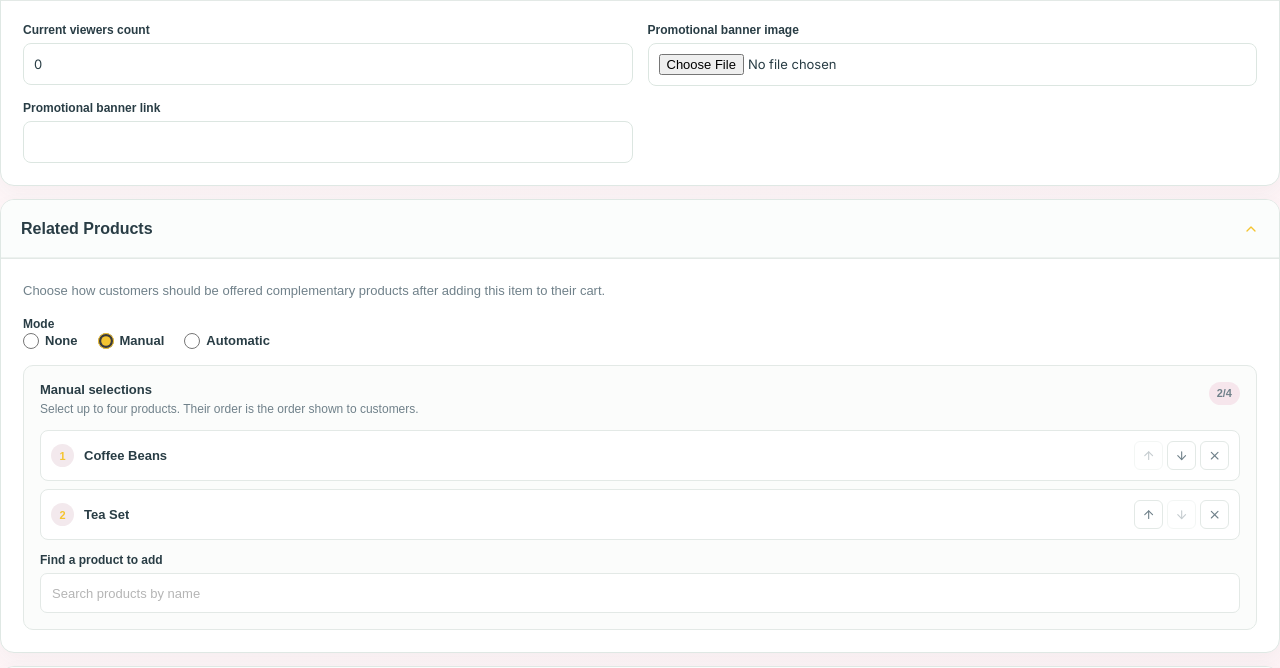
Test case: product editor related-products configuration › loads saved manual selections in their backend position order
(page scrolled)
Check: the text "Coffee Beans" is shown, box [84, 448, 167, 463]
Check: the text "Tea Set" is shown, box [84, 507, 129, 522]
Click the radio button labelled "Automatic" at (192, 341), box [184, 333, 200, 349]
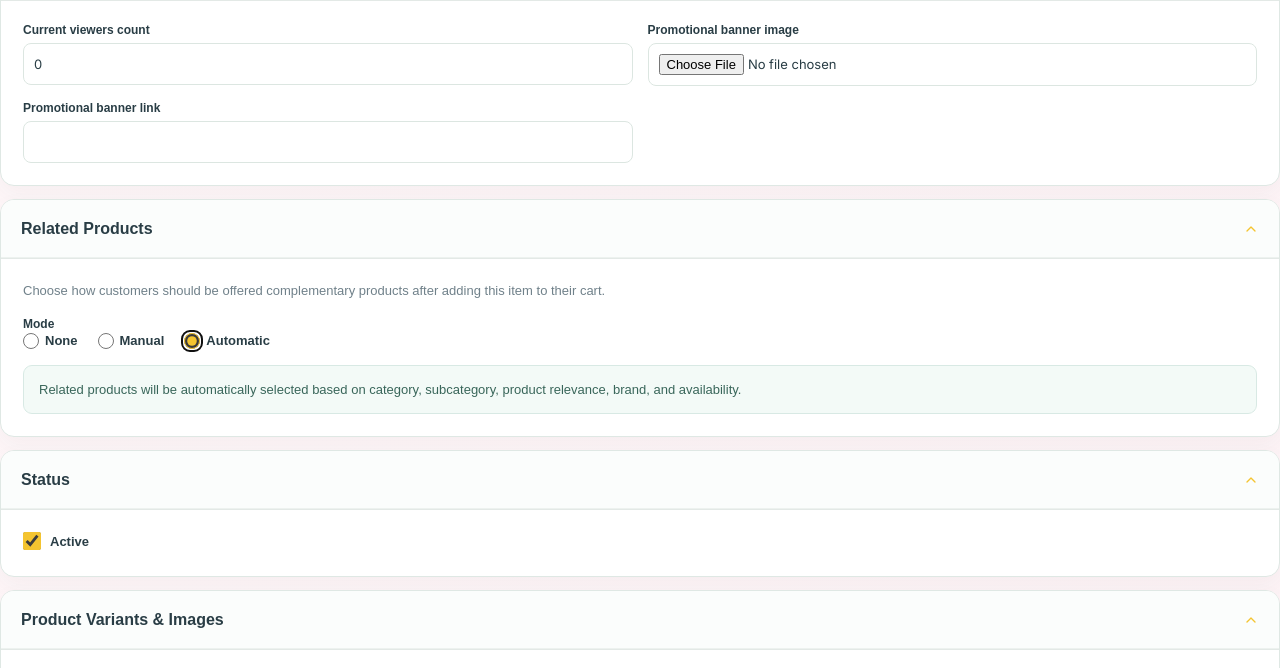
Check: the text "automatically selected based on category" is shown, box [39, 382, 741, 397]
